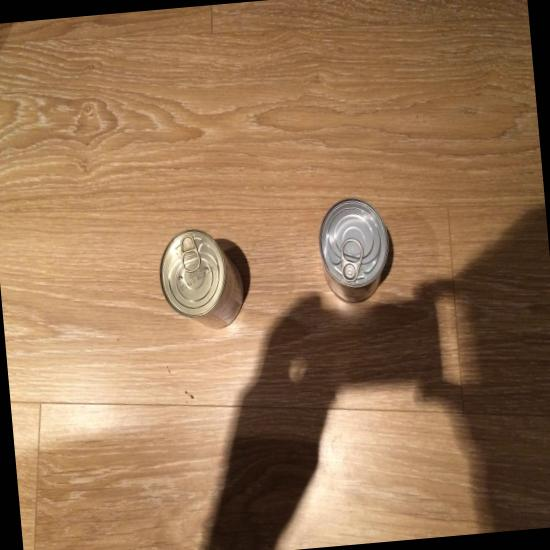Food Can: (160, 228, 243, 329), (318, 198, 388, 301)
Pop tab: (341, 238, 363, 281), (180, 234, 200, 272), (343, 241, 360, 261), (183, 251, 198, 270)
